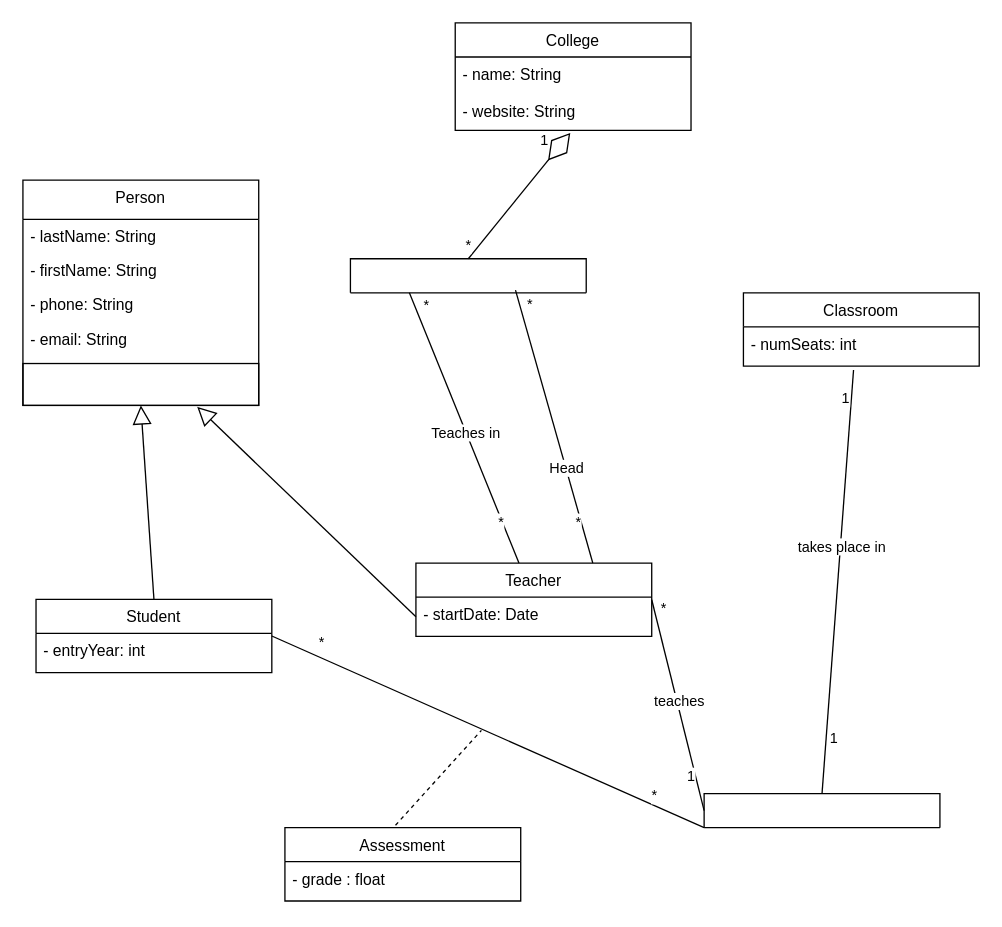
Image size: 1002x927. Some labels were removed from this diagram. The centre of each missing label's shape, as x and y in pixels:
+ personalRecord(): (140,383)
Department: (467,275)
Subject: (821,810)
